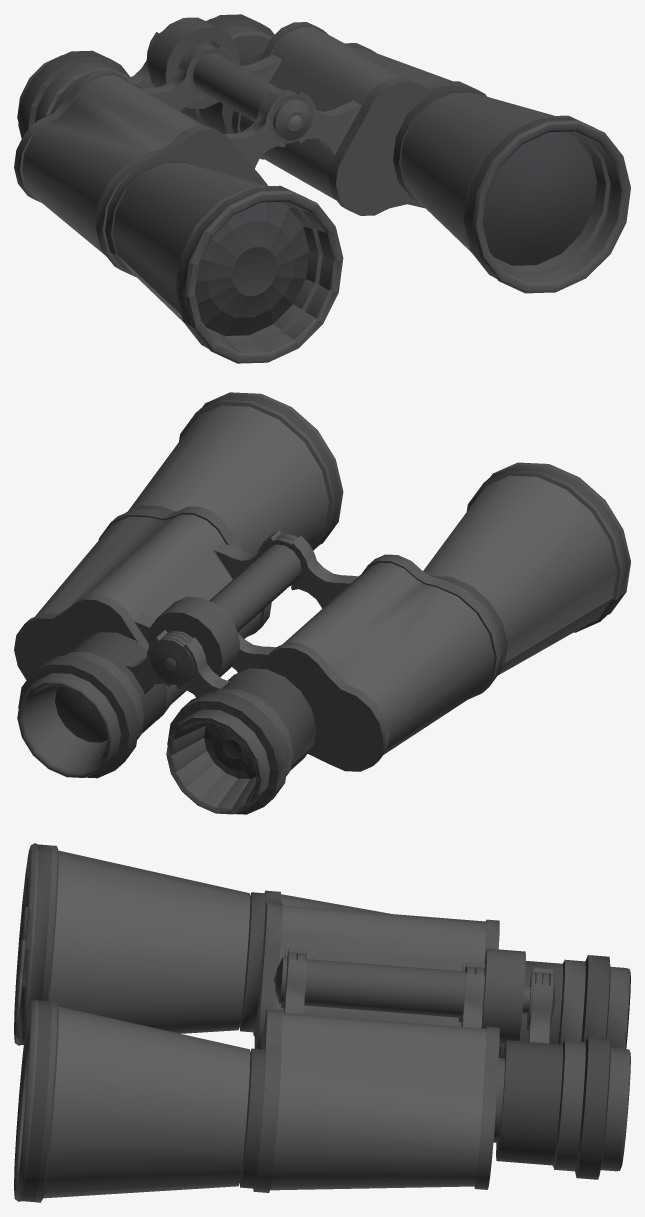
File: binoculars.glb
3 views of the same model, one above another, from view 1: azimuth 30°, elevation 25°; view 2: azimuth 150°, elevation 25°; view 3: azimuth 270°, elevation 25° (orthographic). The views are drawn at different scales.
Visible parts, largest first — view 1: pCylinder14_glossy_plastic_0; view 2: pCylinder14_glossy_plastic_0; view 3: pCylinder14_glossy_plastic_0.
Boxes of the visible parts, x1,y1,x2,y2 form: pCylinder14_glossy_plastic_0: (14, 14, 630, 363); pCylinder14_glossy_plastic_0: (14, 392, 630, 814); pCylinder14_glossy_plastic_0: (14, 843, 630, 1202).
Size of the model in its own units: 0.1669 by 0.065 by 0.1797.
1 material, 1 textured.
